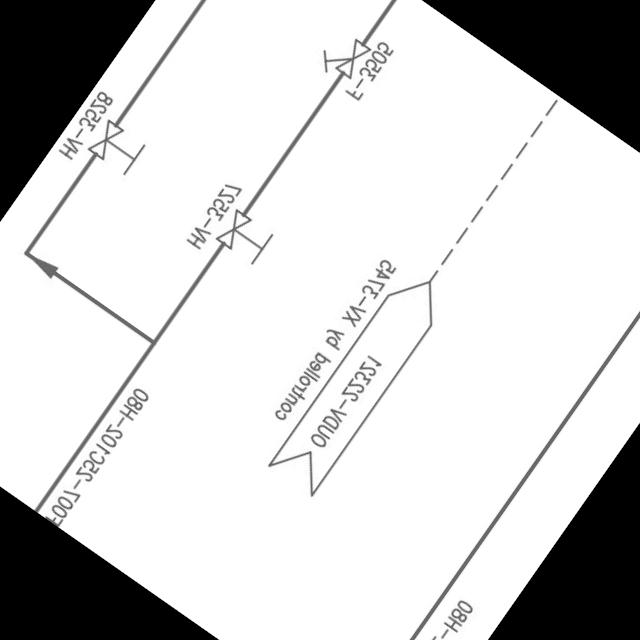HVWT: (78, 114, 154, 187), (208, 204, 280, 275)
S: (308, 21, 376, 92)
